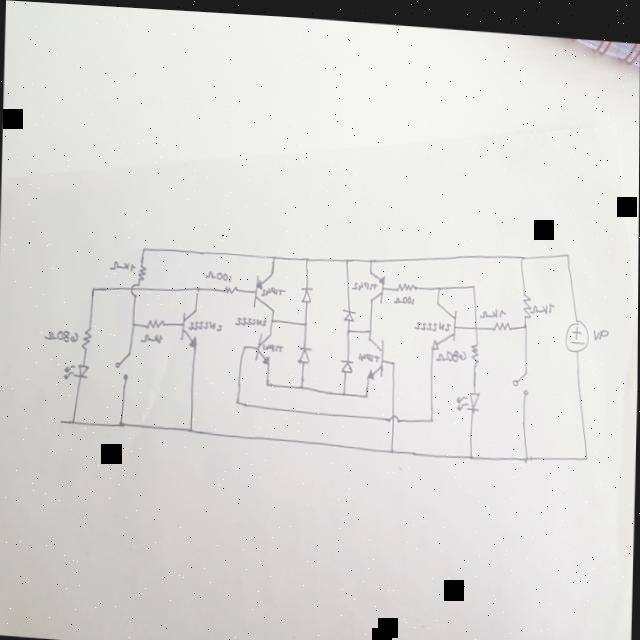crossover: (388, 408, 401, 421), (131, 282, 139, 297)
diode: (456, 381, 481, 408), (62, 360, 91, 383), (296, 339, 315, 360), (339, 352, 356, 371), (300, 281, 315, 301), (340, 303, 357, 319)
junction: (467, 444, 475, 457), (118, 417, 127, 428), (428, 408, 436, 420), (518, 245, 526, 257), (524, 445, 531, 458), (69, 417, 77, 428), (435, 277, 443, 288), (235, 394, 243, 404), (299, 378, 307, 388), (470, 275, 477, 286), (584, 444, 591, 455), (195, 282, 202, 292), (363, 388, 371, 396), (563, 245, 570, 254), (189, 422, 195, 432), (304, 251, 310, 261), (270, 249, 277, 257), (264, 376, 271, 384), (390, 441, 396, 450), (523, 315, 529, 324), (90, 284, 96, 292), (131, 320, 137, 328), (270, 312, 276, 320), (302, 317, 308, 325), (342, 385, 348, 393), (344, 253, 349, 262), (473, 317, 478, 326), (141, 244, 147, 251), (345, 323, 351, 330), (243, 339, 248, 347), (392, 354, 397, 362), (369, 252, 374, 259), (368, 324, 372, 330)
resistor: (80, 323, 94, 351), (395, 274, 419, 290), (491, 312, 513, 328), (521, 284, 533, 312), (145, 313, 166, 329), (220, 279, 240, 294), (136, 261, 149, 280), (470, 335, 480, 357)
source: (564, 311, 593, 348)
switch: (113, 346, 136, 380), (511, 361, 532, 392)
text: (436, 340, 467, 359), (44, 325, 80, 341), (413, 313, 451, 328), (188, 316, 223, 331), (479, 300, 507, 314), (234, 314, 268, 325), (206, 266, 233, 279), (530, 294, 555, 308), (140, 329, 164, 343), (353, 276, 377, 289), (592, 319, 611, 335), (393, 288, 416, 301), (110, 258, 136, 269), (262, 282, 286, 293), (262, 338, 285, 349), (358, 348, 380, 359)
transistor: (429, 295, 458, 348), (252, 267, 278, 310), (178, 304, 203, 348), (366, 333, 386, 378), (254, 325, 275, 362), (367, 264, 388, 301)
